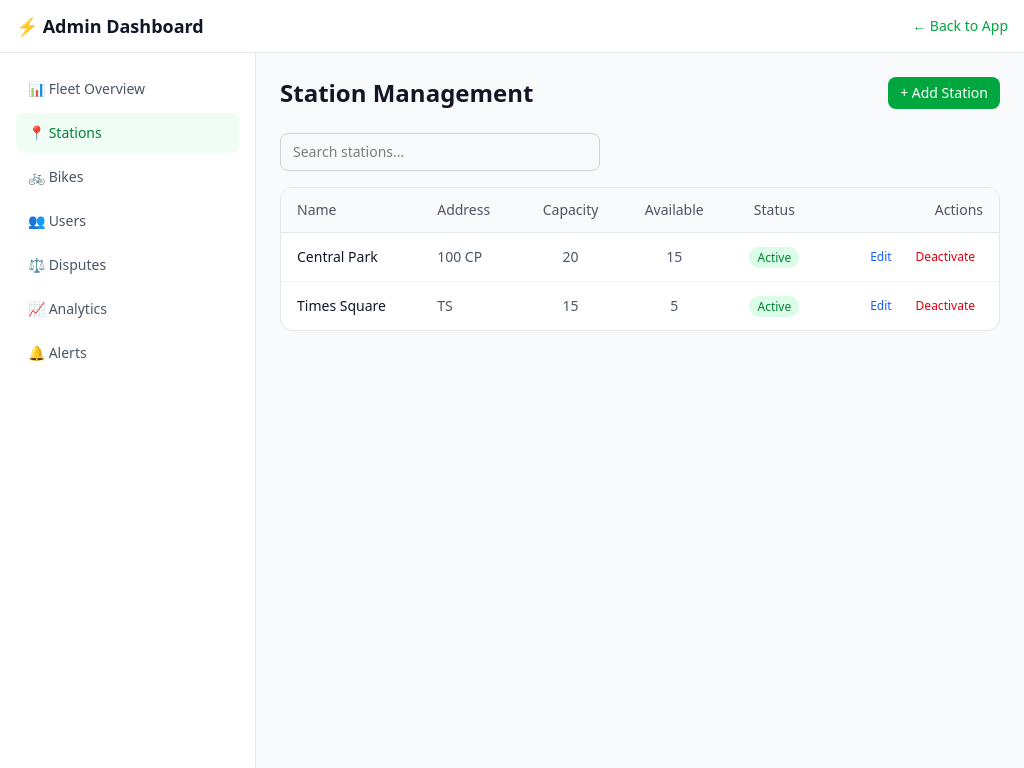
Test: StationManagement › filters stations by search
Expected: the text "Central Park" is shown, left=281, top=232, right=421, bottom=282
Type "Central" into the field with placeholder "Search stations…" at (440, 152), box left=280, top=133, right=600, bottom=171
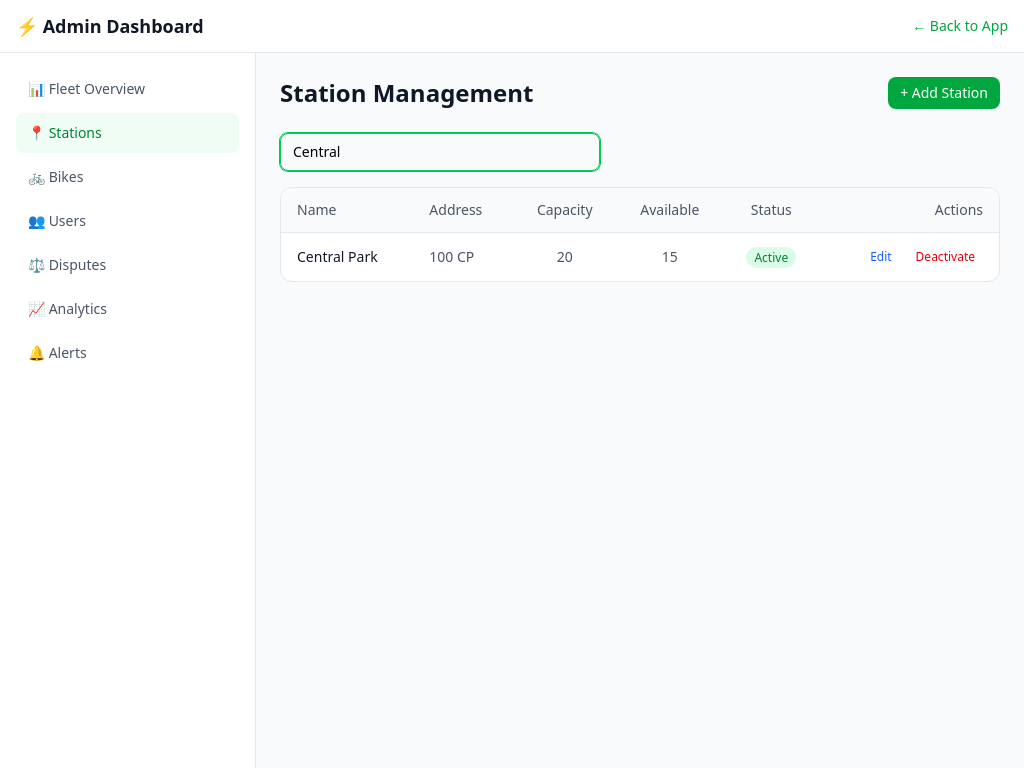
Expected: the text "Central Park" is shown, left=281, top=232, right=413, bottom=281
Expected: the text "Times Square" is gone
